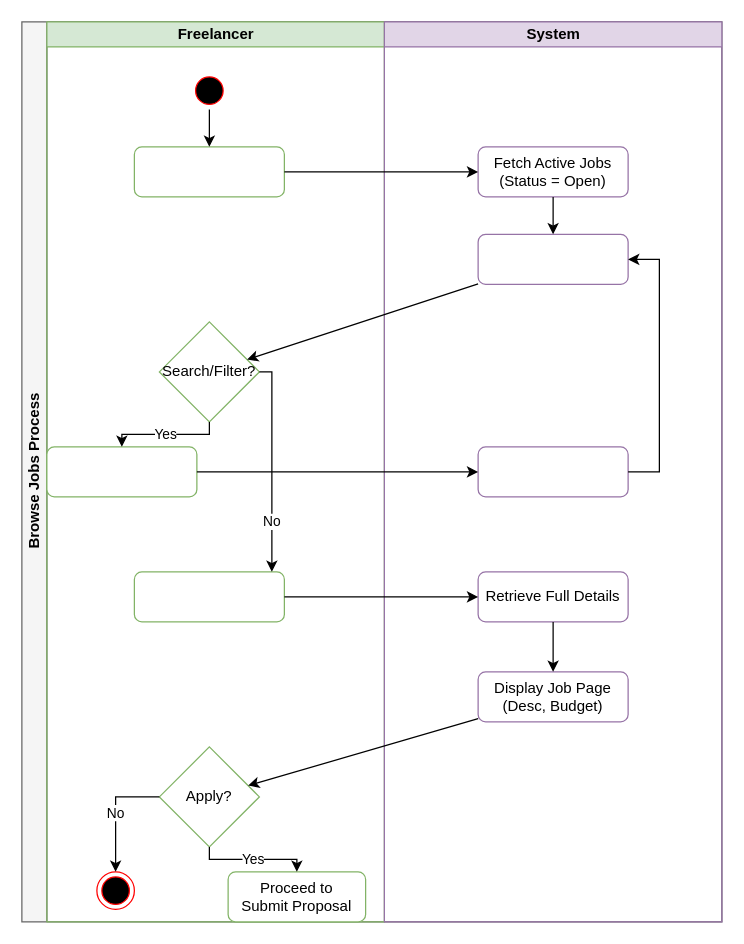
Image size: 744x944. Some labels were removed from this diagram. The shapes that lost their labels are listed below. From the top down, each one's centre as x and y in pixels, then its label:
point (208, 171): Click "Find Work"
point (552, 258): Display Job Feed
point (121, 471): Enter Keywords / Apply Filters
point (552, 471): Filter Results in Database
point (208, 596): Click on a Job Card
